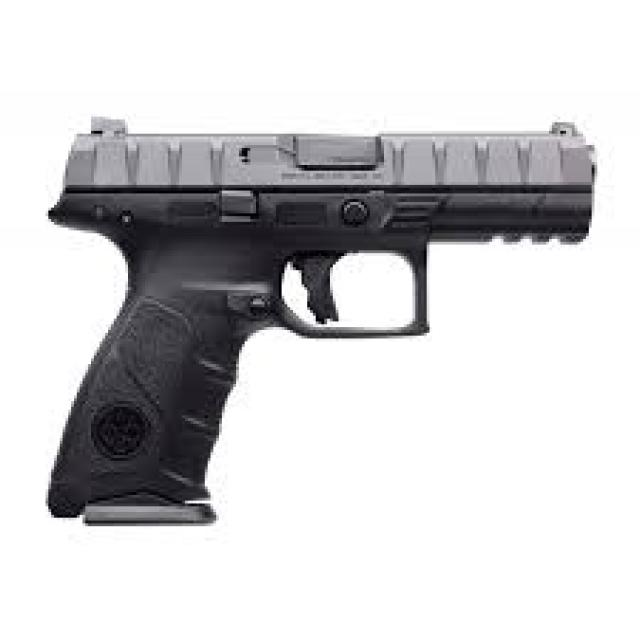pistol: (41, 113, 611, 540)
